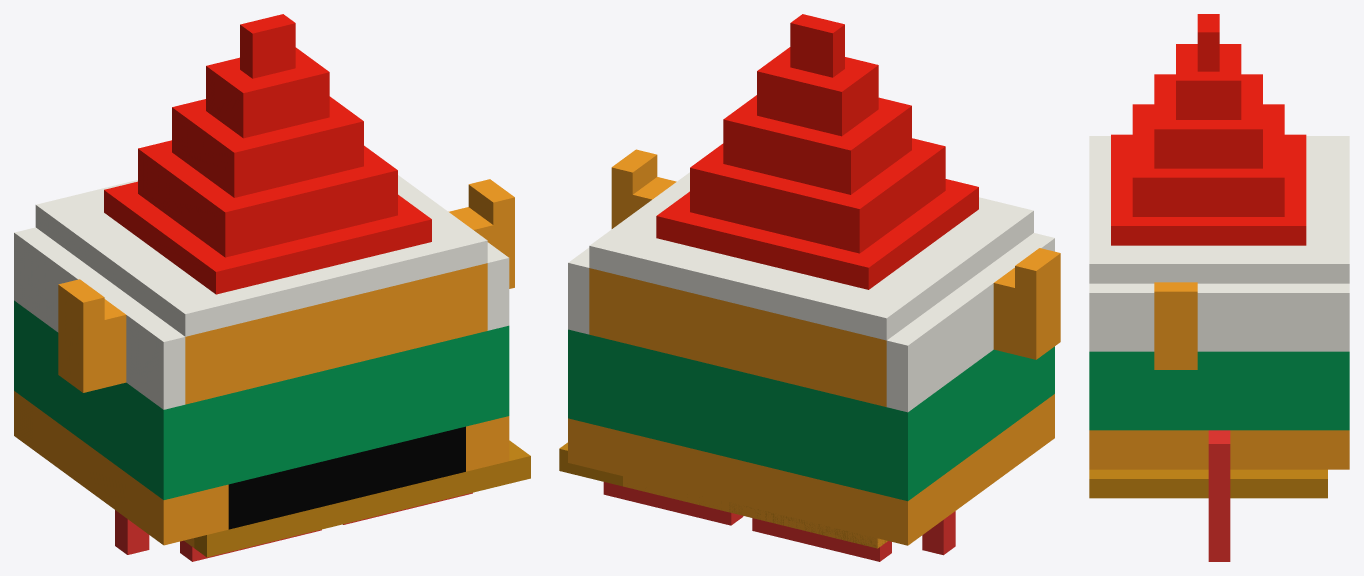
Rendered from gnome.glb.
3 renders of one model, left to right at view 1: azimuth 30°, elevation 25°; view 2: azimuth 150°, elevation 25°; view 3: azimuth 270°, elevation 25°, orthographic. The views are drawn at different scales.
Parts seen in each view (by area): view 1: base, bottom, glasses; view 2: base, glasses, bottom; view 3: base, bottom, glasses.
Boxes of the visible parts, left/top/right/bottom form: base: left=14, top=14, right=514, bottom=547; bottom: left=194, top=440, right=530, bottom=557; glasses: left=115, top=492, right=472, bottom=561; base: left=568, top=14, right=1060, bottom=548; glasses: left=603, top=482, right=955, bottom=561; bottom: left=559, top=442, right=887, bottom=547; base: left=1089, top=14, right=1349, bottom=469; bottom: left=1089, top=469, right=1327, bottom=498; glasses: left=1208, top=430, right=1230, bottom=561.
Bounding box in the file's own units: 20 × 23 × 12.
Materials: 12 (12 with a texture image).
